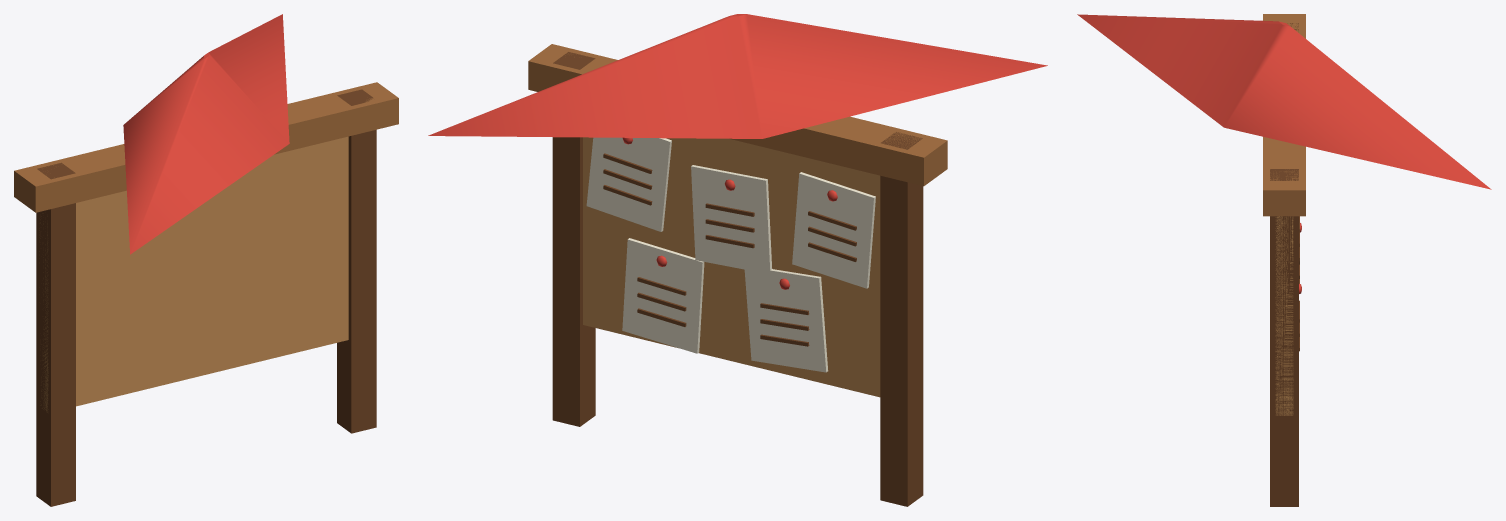
The model's file is QuestBoard.glb.
3 renders of one model, left to right at view 1: azimuth 30°, elevation 25°; view 2: azimuth 150°, elevation 25°; view 3: azimuth 270°, elevation 25°, orthographic. The views are drawn at different scales.
Visible parts, largest first — view 1: Body; view 2: Body; view 3: Body.
Part boxes in pixels (x1,y1,x2,y2): Body: [14, 14, 398, 506]; Body: [428, 14, 1047, 506]; Body: [1077, 14, 1491, 506].
Bounding box in the file's own units: 5.8 × 6.2 × 5.77.
1 material, 1 textured.
